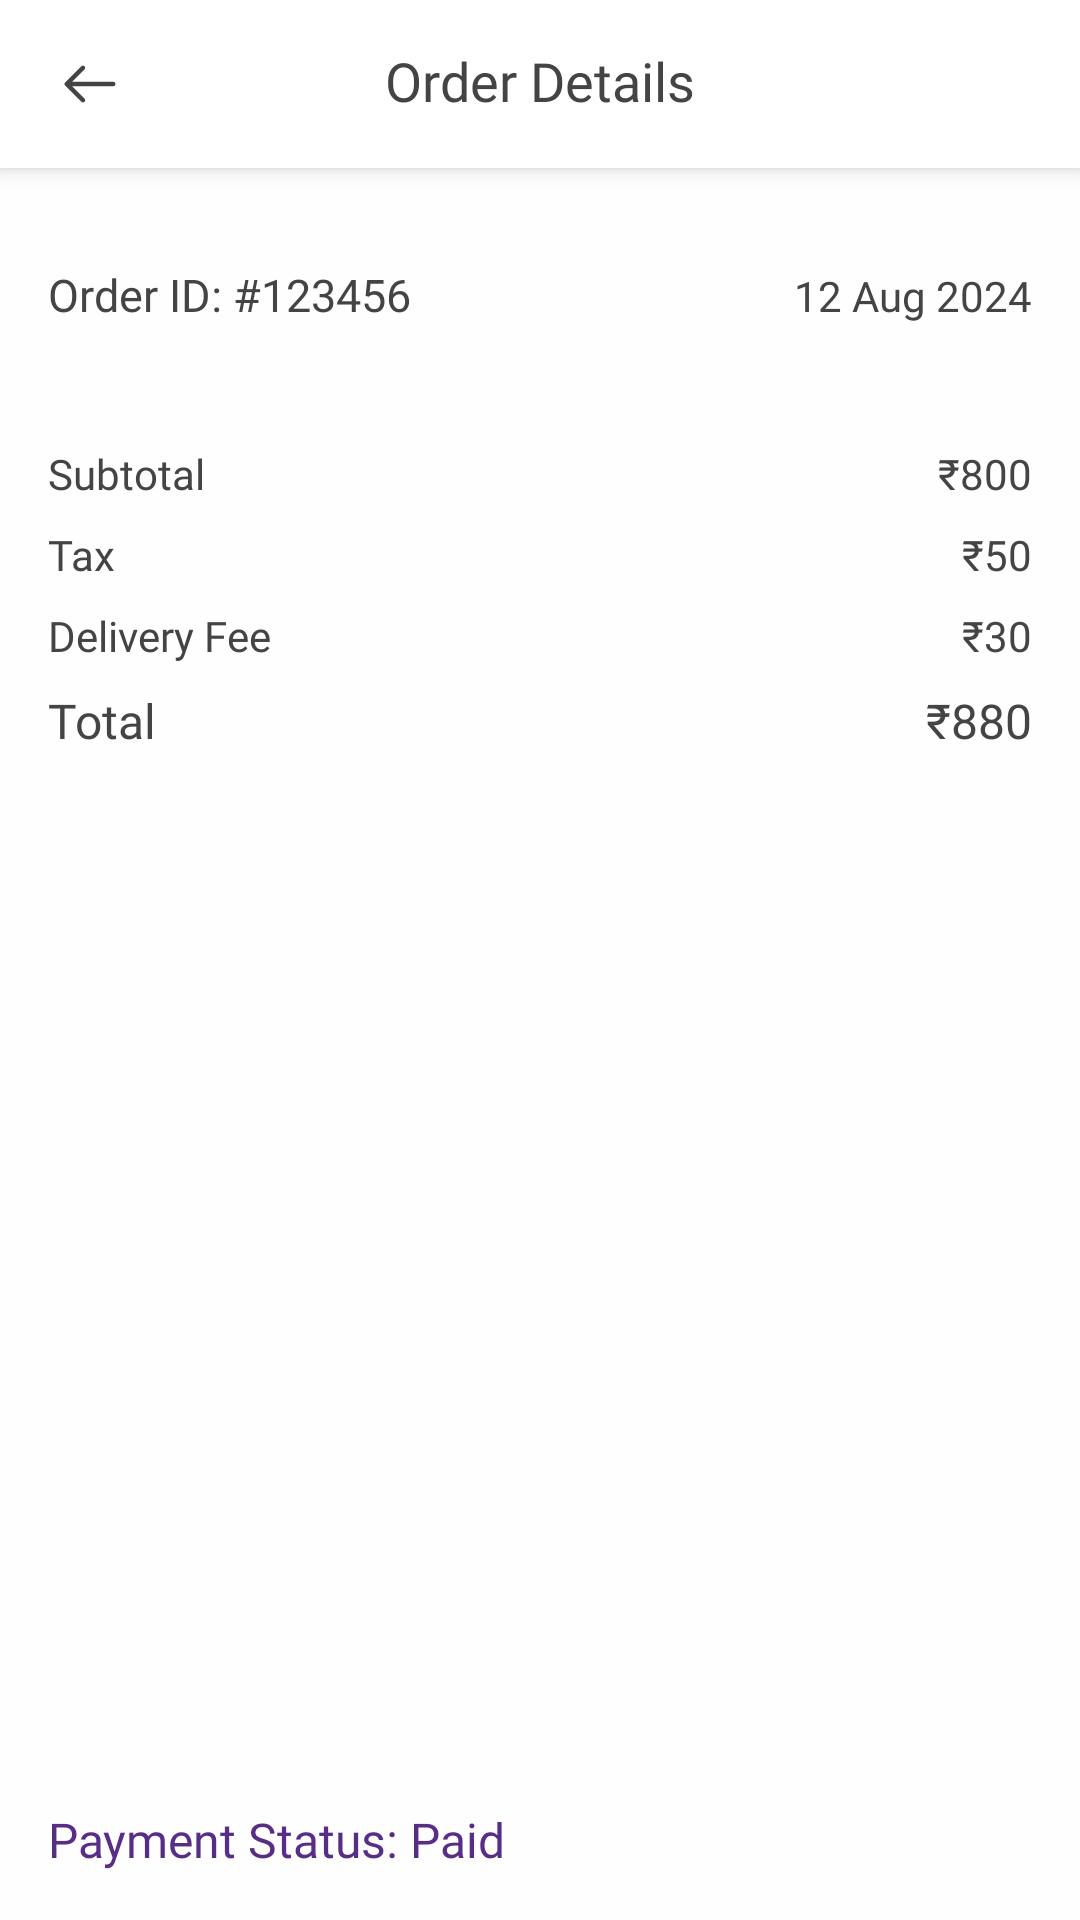

Icon click points for this 1080x1920 phone screenshot, format [x,y]:
Back Button: [90,84]
